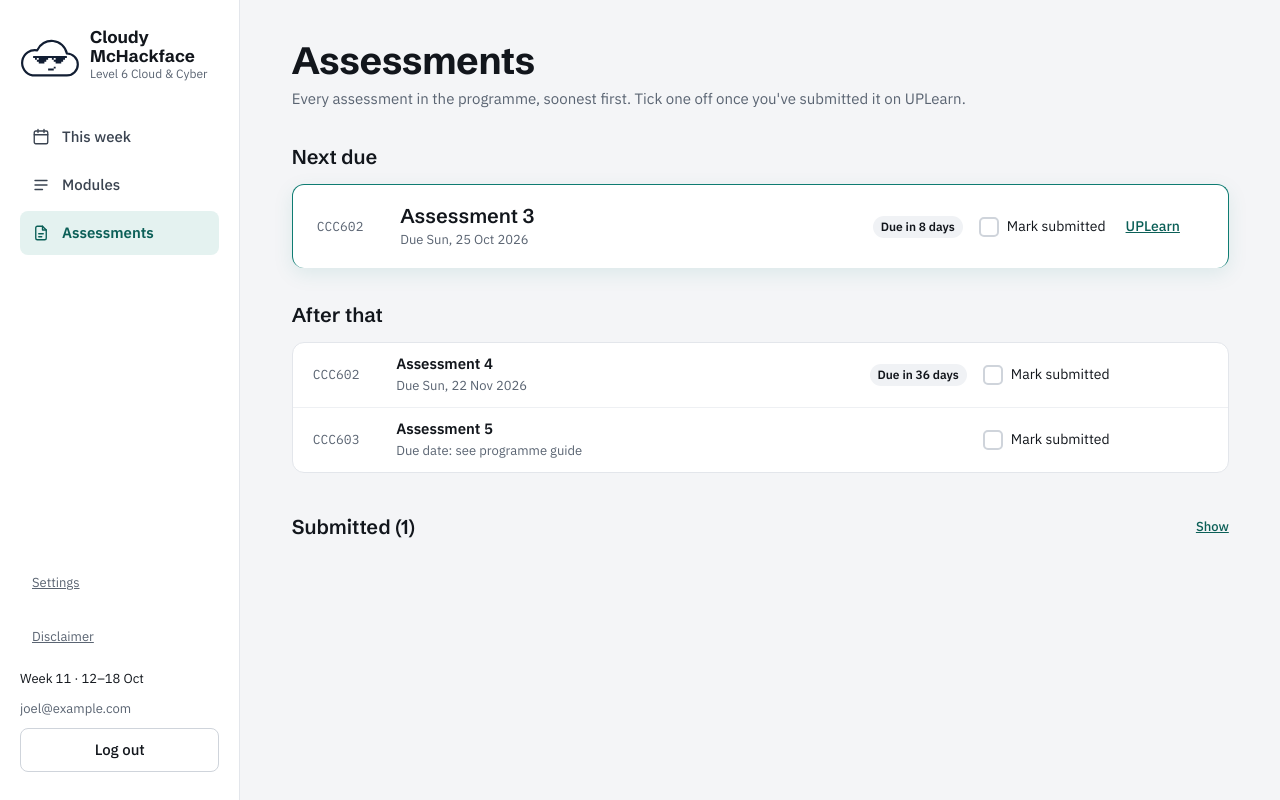
Test: AssessmentsPage › rolls the tick back when saving fails
This screenshot has width=1280, height=800.
Expected: the element "Next due" is shown, [292,142,1229,268]
Click the checkbox labelled "Mark submitted" in the row of "Assessment 3" at (989, 226), box [979,216,999,236]
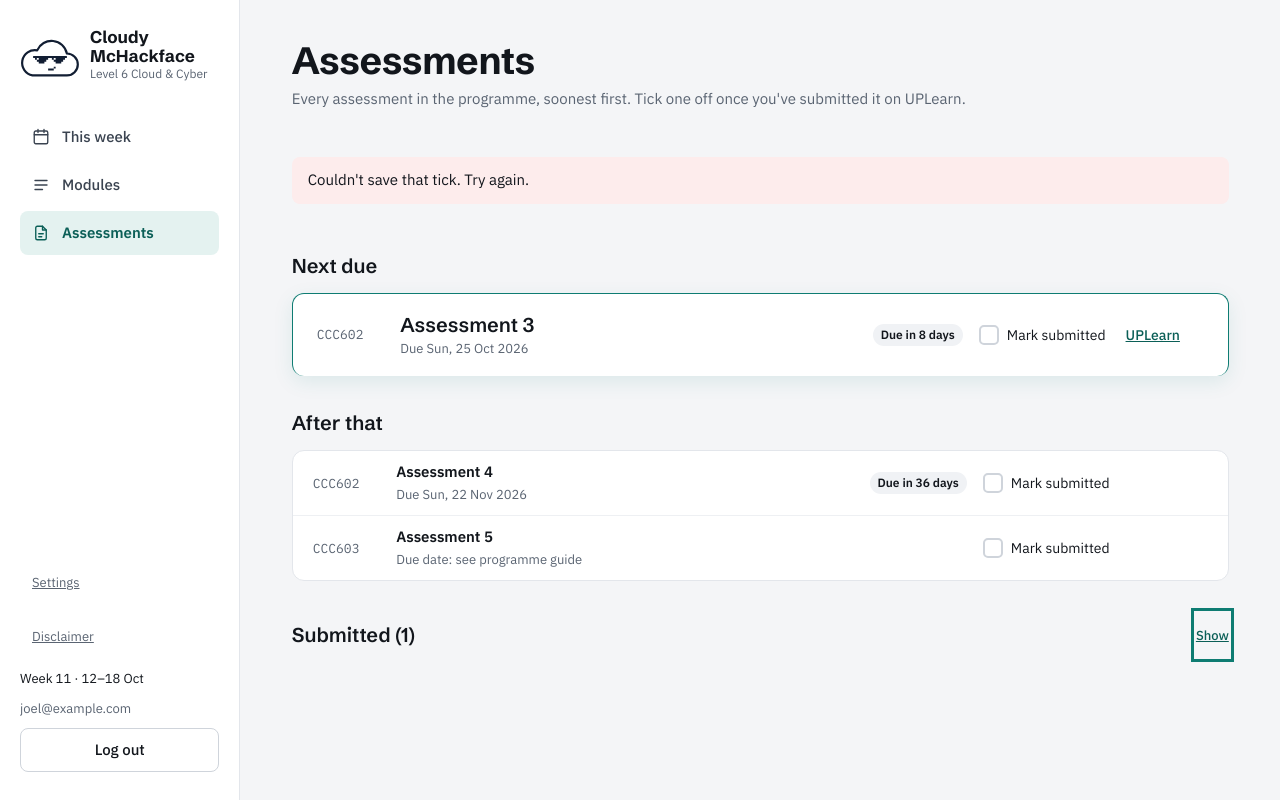
Expected: the heading "Assessment 3" is shown, [400,312,534,337]
Expected: the message reads "Couldn't save that tick. Try again.", [308,170,529,189]
